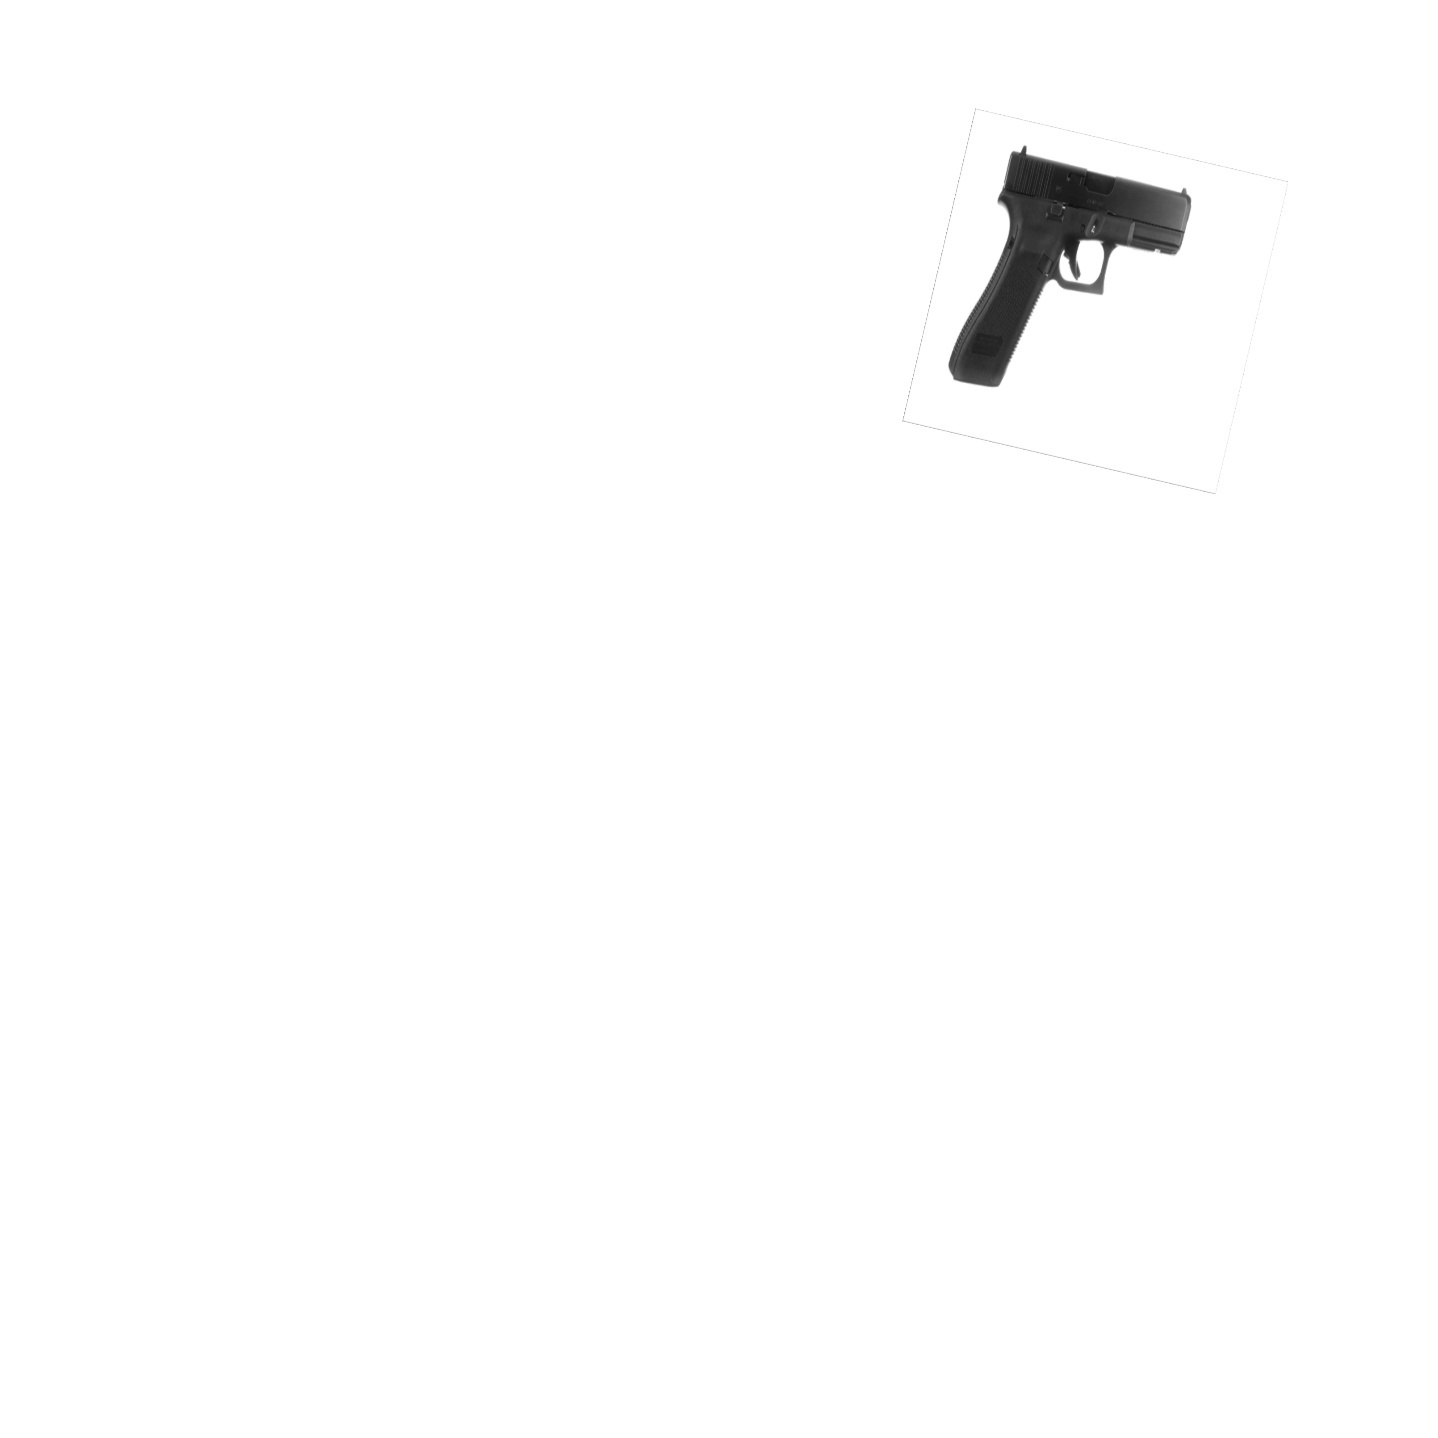gun: (943, 140, 1200, 402)
